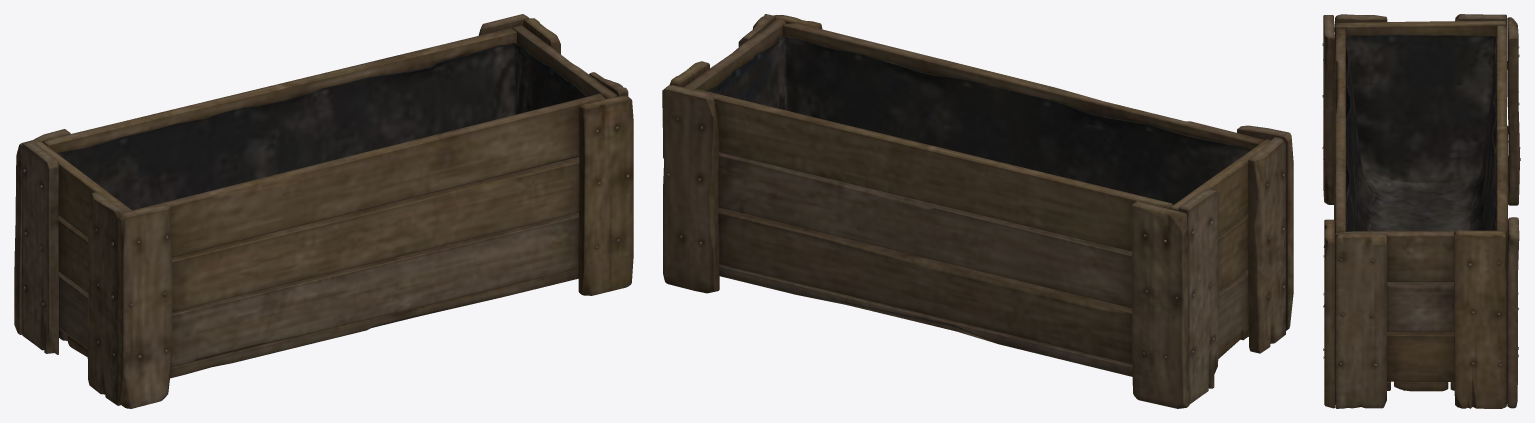
File: planter.glb
The picture shows the model from 3 angles, left to right: view 1: azimuth 30°, elevation 25°; view 2: azimuth 150°, elevation 25°; view 3: azimuth 270°, elevation 25°; orthographic projection. The views are drawn at different scales.
Parts seen in each view (by area): view 1: planter_box_02; view 2: planter_box_02; view 3: planter_box_02.
Boxes of the visible parts, x1=… form: planter_box_02: x1=14, y1=14, x2=633, y2=408; planter_box_02: x1=662, y1=14, x2=1293, y2=408; planter_box_02: x1=1322, y1=14, x2=1520, y2=408.
Bounding box in the file's own units: 1.25 × 0.4534 × 0.4672.
1 material, 1 textured.
